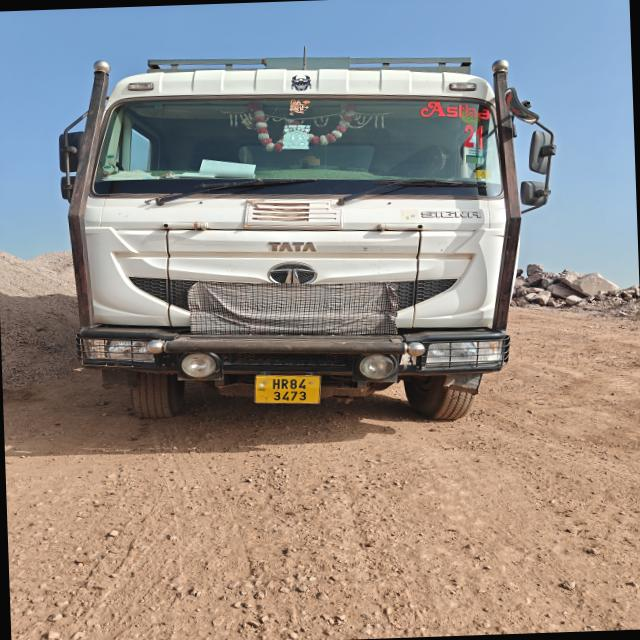license_plate: (255, 376, 321, 403)
